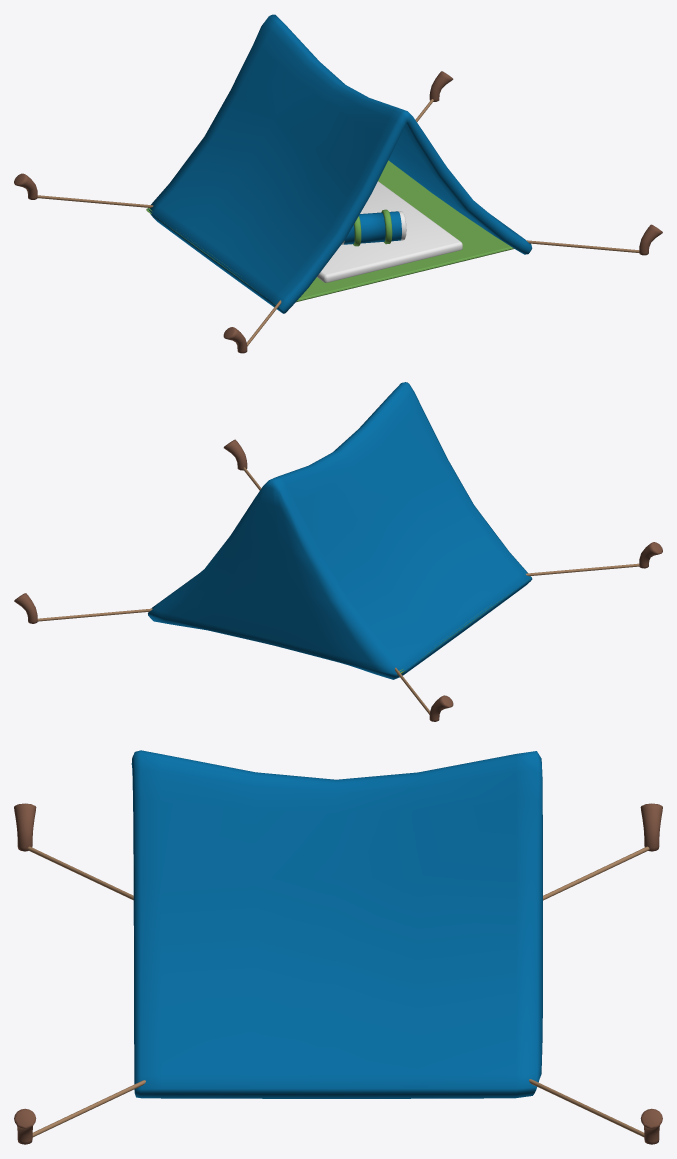
Rendered from tent2.fbx.
The picture shows the model from 3 angles, top to bottom: view 1: azimuth 30°, elevation 25°; view 2: azimuth 150°, elevation 25°; view 3: azimuth 270°, elevation 25°; orthographic projection. The views are drawn at different scales.
Visible parts, largest first — view 1: tent.001; view 2: tent.001; view 3: tent.001.
Boxes of the visible parts, box(x1,y1,x2,y2) form: tent.001: box(14, 14, 662, 353); tent.001: box(14, 382, 662, 721); tent.001: box(14, 750, 662, 1144).
Size of the model in its own units: 313 by 119 by 269.
